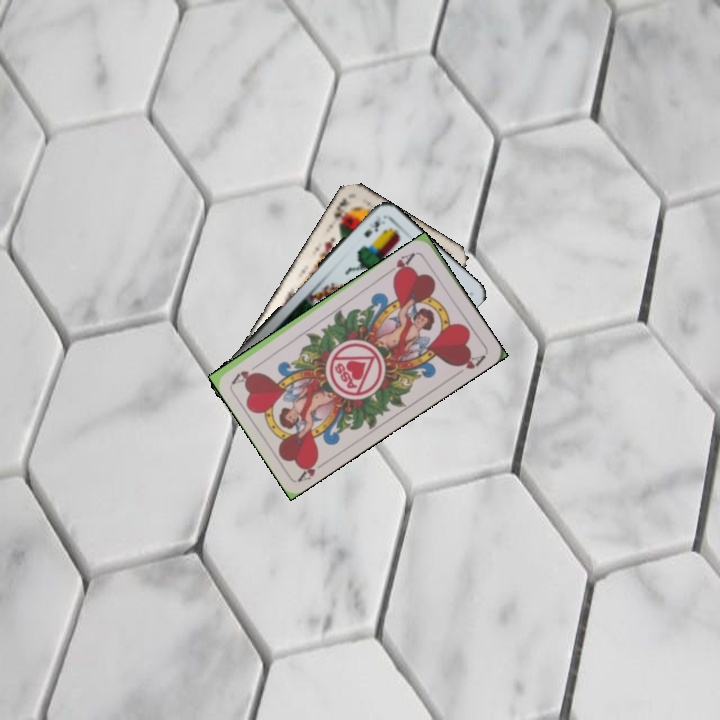EK: (360, 215, 383, 240)
HA: (384, 248, 420, 280), (295, 453, 330, 484)
SK: (329, 193, 351, 232)
